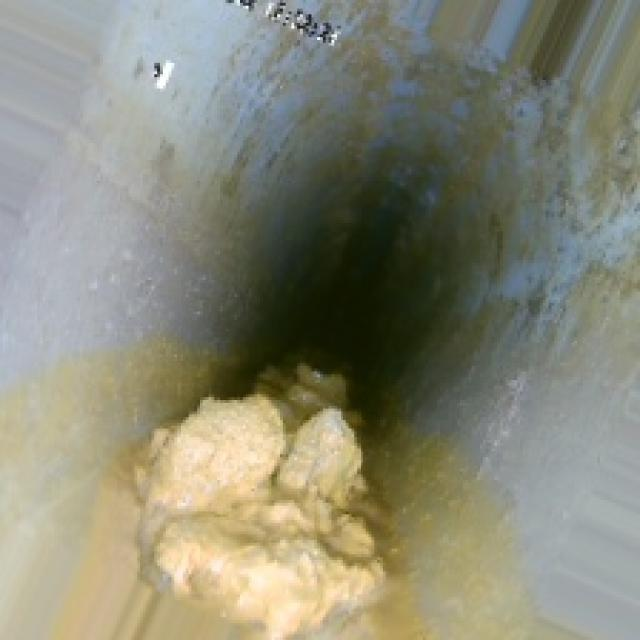sluge accumulation: (134, 352, 403, 632)
